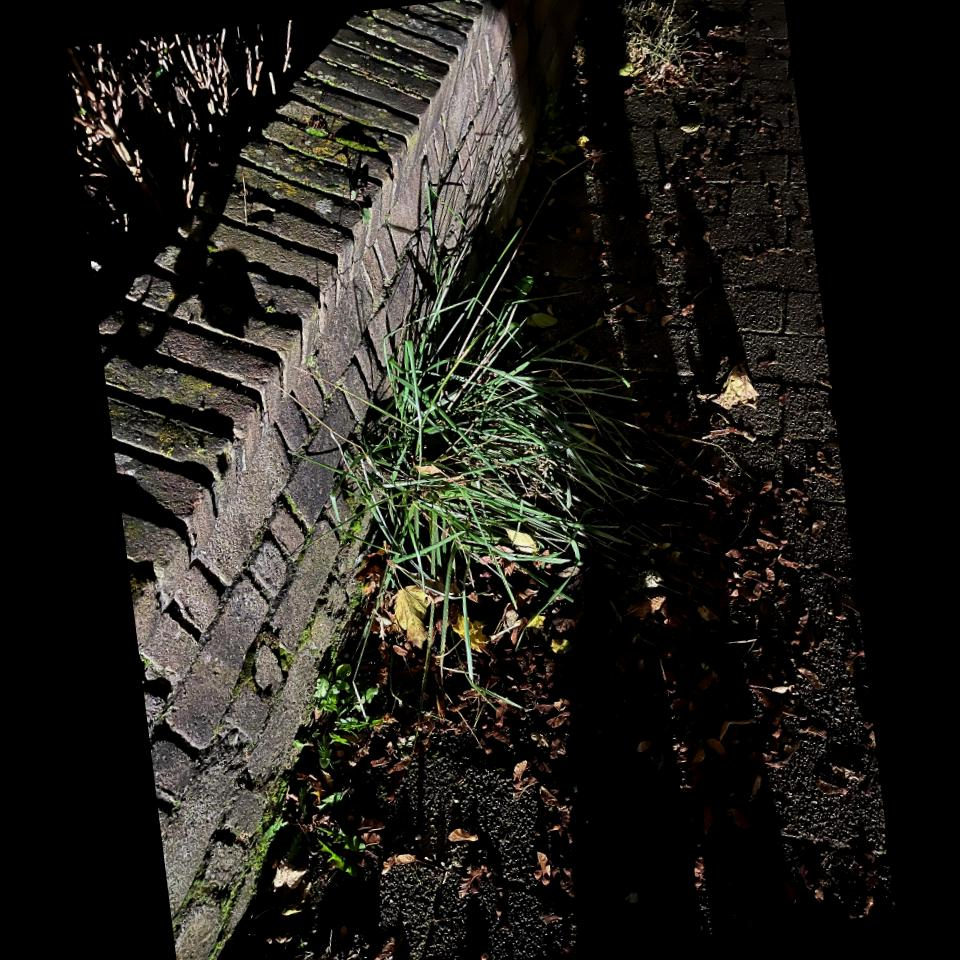weed: (330, 297, 636, 623), (231, 657, 394, 886), (544, 0, 730, 108)
